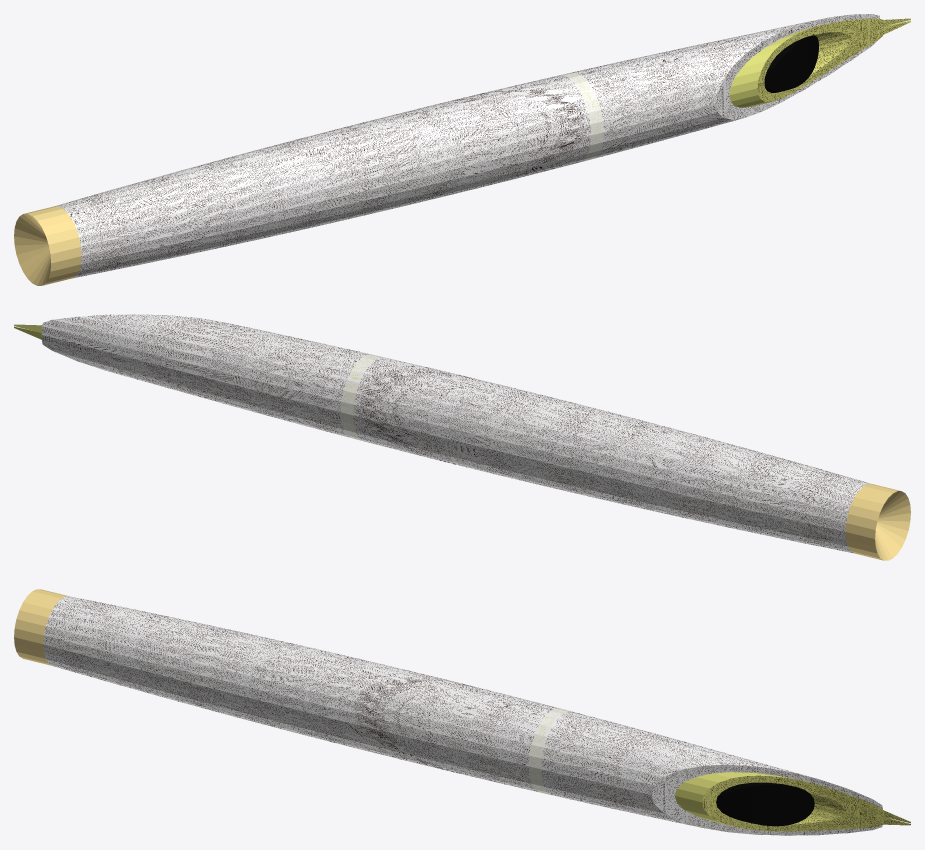
The picture shows the model from 3 angles, top to bottom: view 1: azimuth 30°, elevation 25°; view 2: azimuth 150°, elevation 25°; view 3: azimuth 330°, elevation 25°; orthographic projection. The views are drawn at different scales.
Parts seen in each view (by area): view 1: pen; view 2: pen; view 3: pen.
Part boxes in pixels (x1,y1,x2,y2): pen: (14, 14, 910, 285); pen: (14, 314, 910, 560); pen: (14, 589, 910, 835).
Bounding box in the file's own units: 2.79 × 0.2472 × 0.2472.
